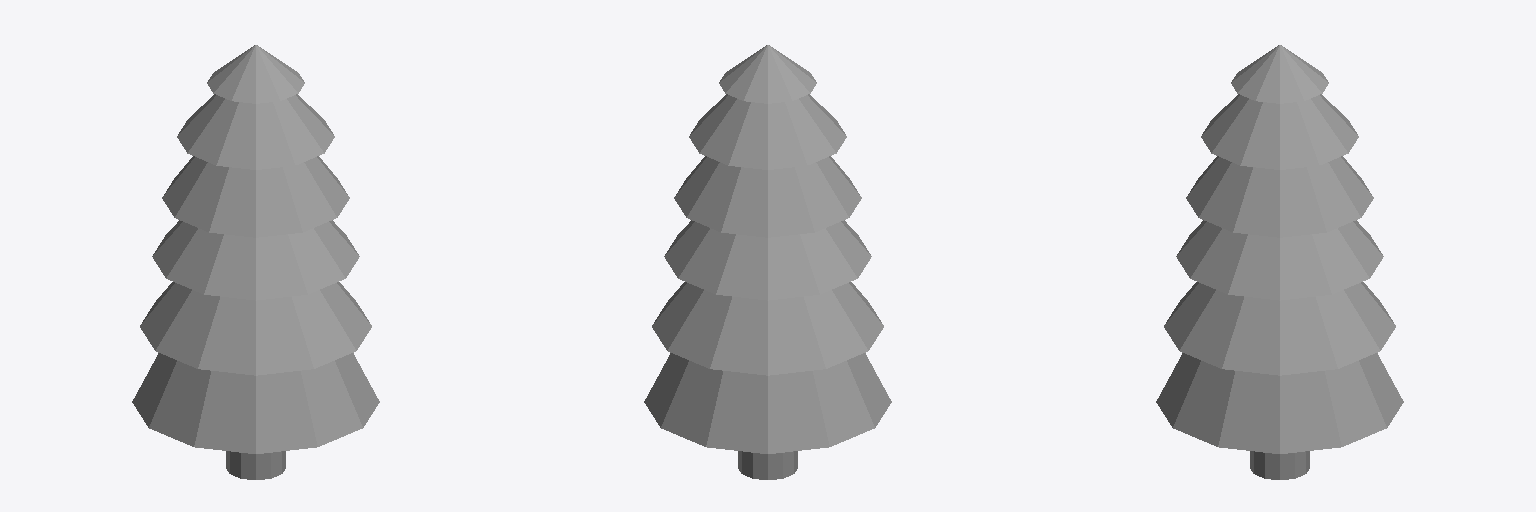
File: tree.obj
3 renders of one model, left to right at view 1: azimuth 30°, elevation 25°; view 2: azimuth 150°, elevation 25°; view 3: azimuth 270°, elevation 25°, orthographic.
Parts seen in each view (by area): view 1: Cylinder; view 2: Cylinder; view 3: Cylinder.
Part boxes in pixels (bbox=[...]): Cylinder: bbox=[132, 45, 379, 479]; Cylinder: bbox=[644, 45, 891, 479]; Cylinder: bbox=[1156, 45, 1403, 479].
Size of the model in its own units: 1.29 by 2.44 by 1.29.